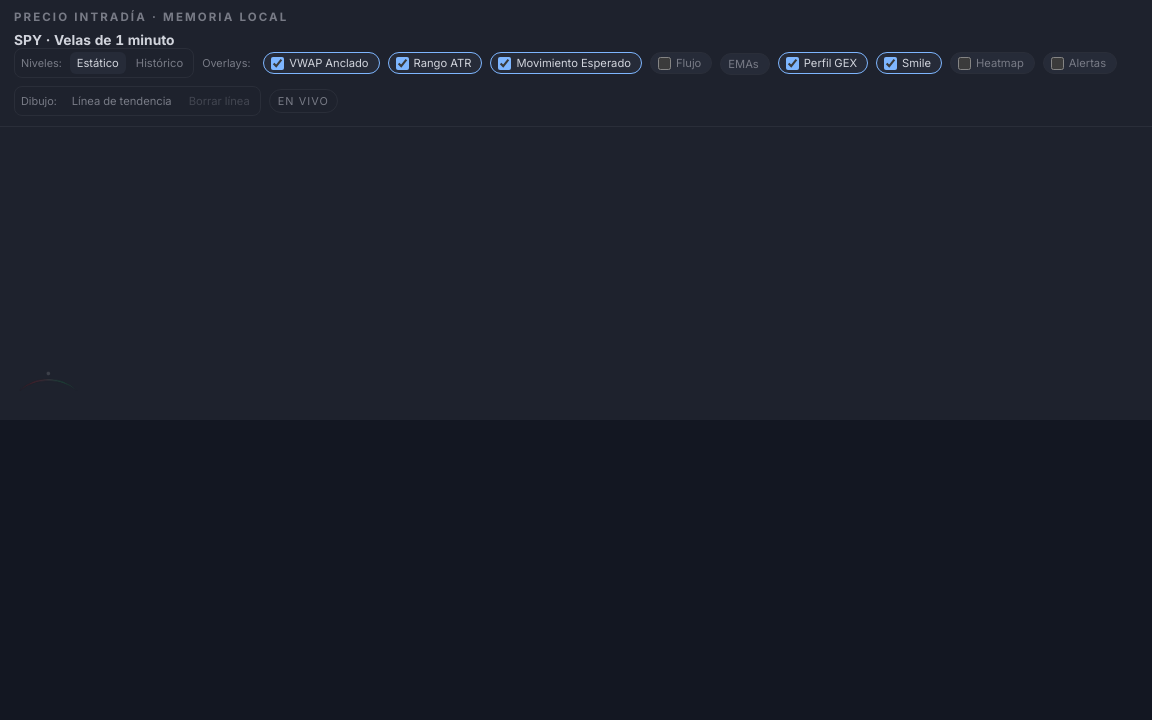
Test: PriceChart › EMAs: an invalid or repeated period is refused with a message and the previous sessions warm the line up
The width and height of the screenshot is (1152, 720).
Click the button "EMAs" at (745, 64), box x1=720 y1=52 x2=770 y2=74
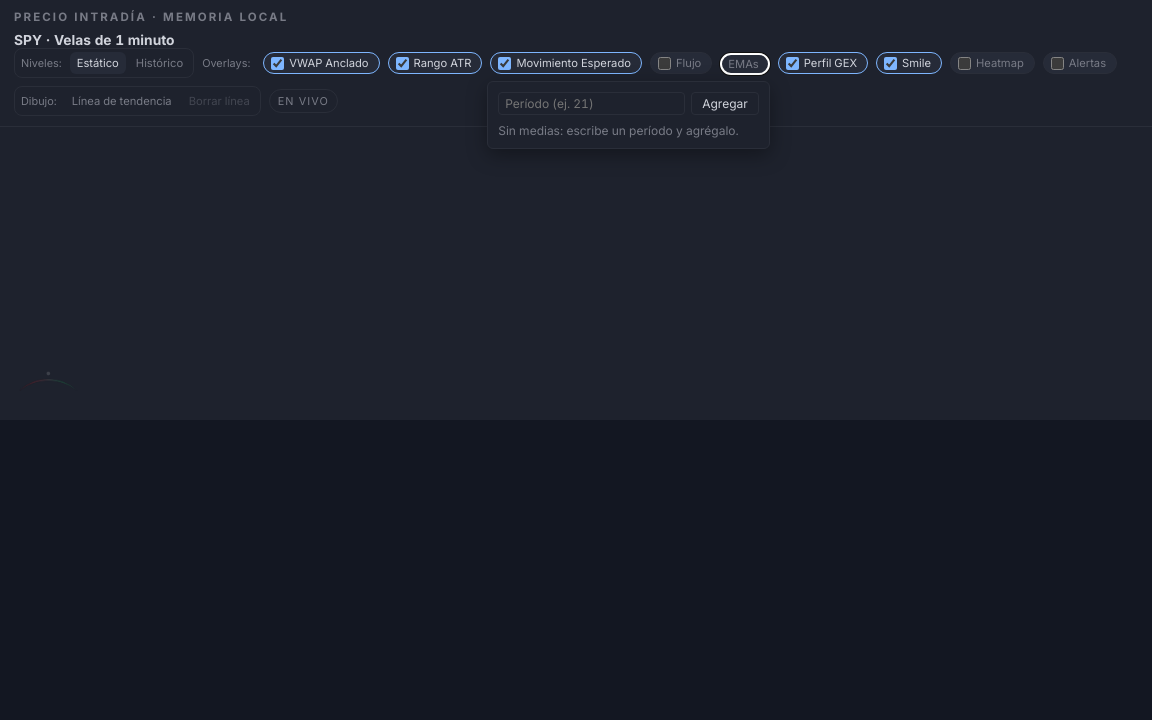
Type "0" into the field named "Período de la nueva EMA" at (592, 103), box x1=498 y1=92 x2=685 y2=114
Click the button "Agregar" at (725, 103), box x1=691 y1=92 x2=759 y2=114
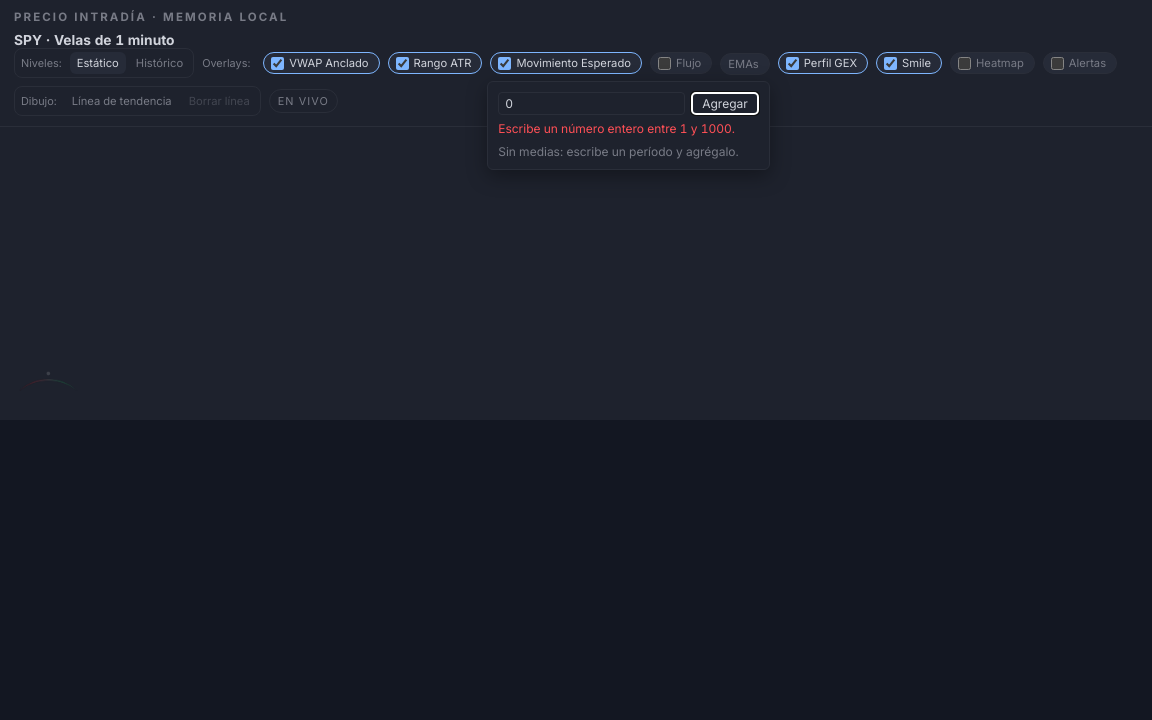
Expected: the message reads "Escribe un número entero entre 1 y 1000.", x1=498 y1=120 x2=735 y2=136
Replace the text in the field named "Período de la nueva EMA" with "2" at (592, 103), box x1=498 y1=92 x2=685 y2=114
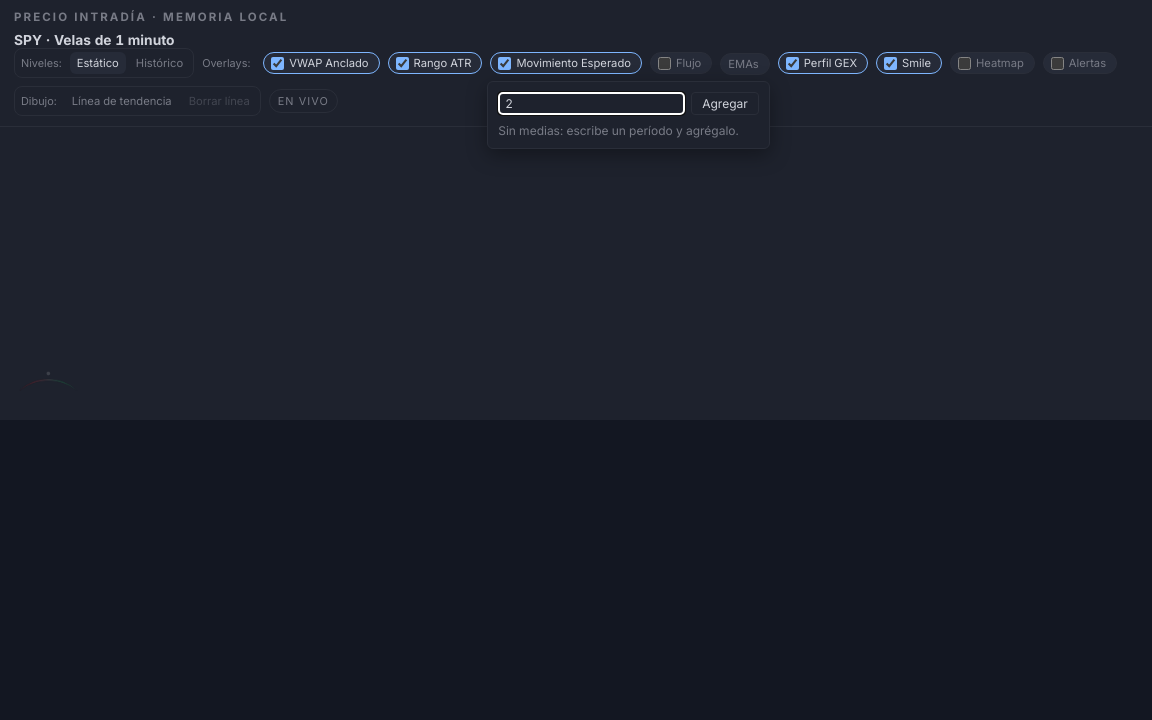
Click the button "Agregar" at (725, 103), box x1=691 y1=92 x2=759 y2=114
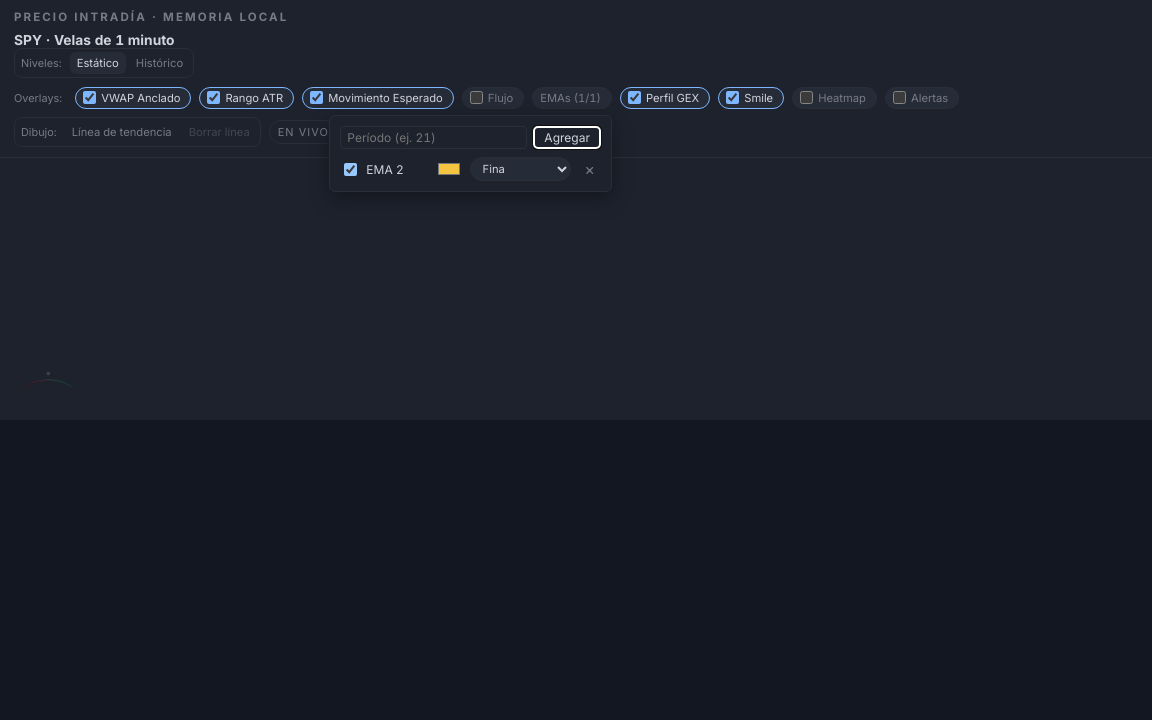
Type "2" into the field named "Período de la nueva EMA" at (434, 138), box x1=340 y1=126 x2=527 y2=149
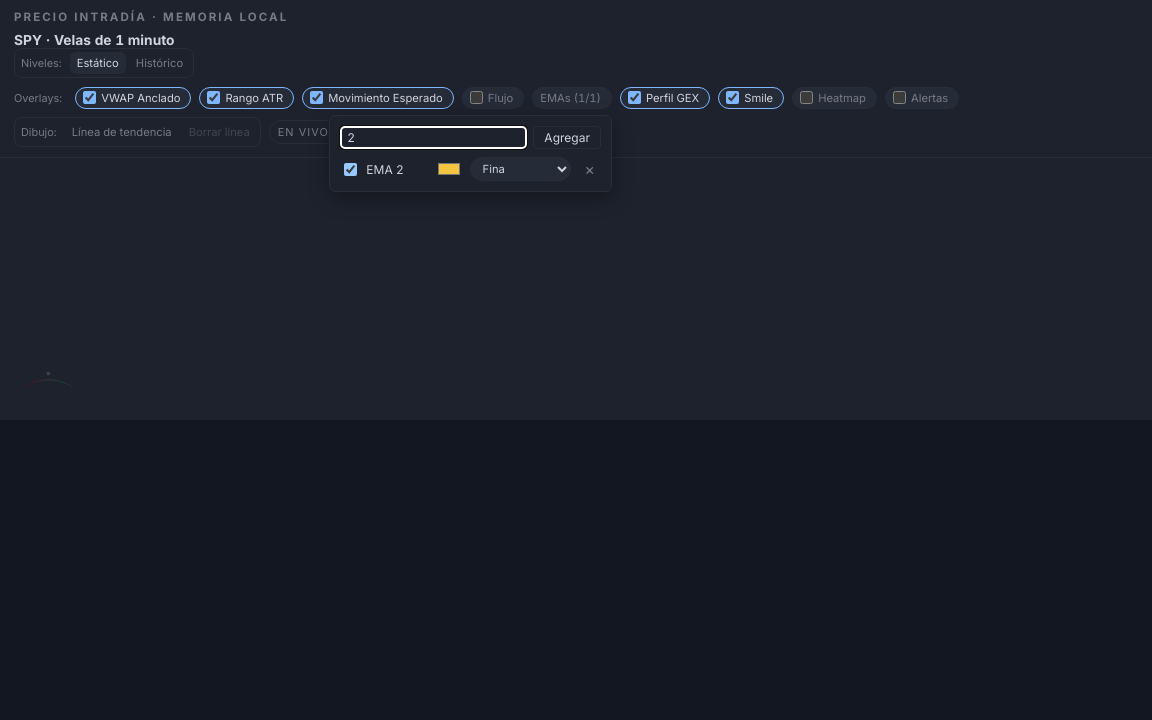
Click the button "Agregar" at (567, 138), box x1=533 y1=126 x2=601 y2=149
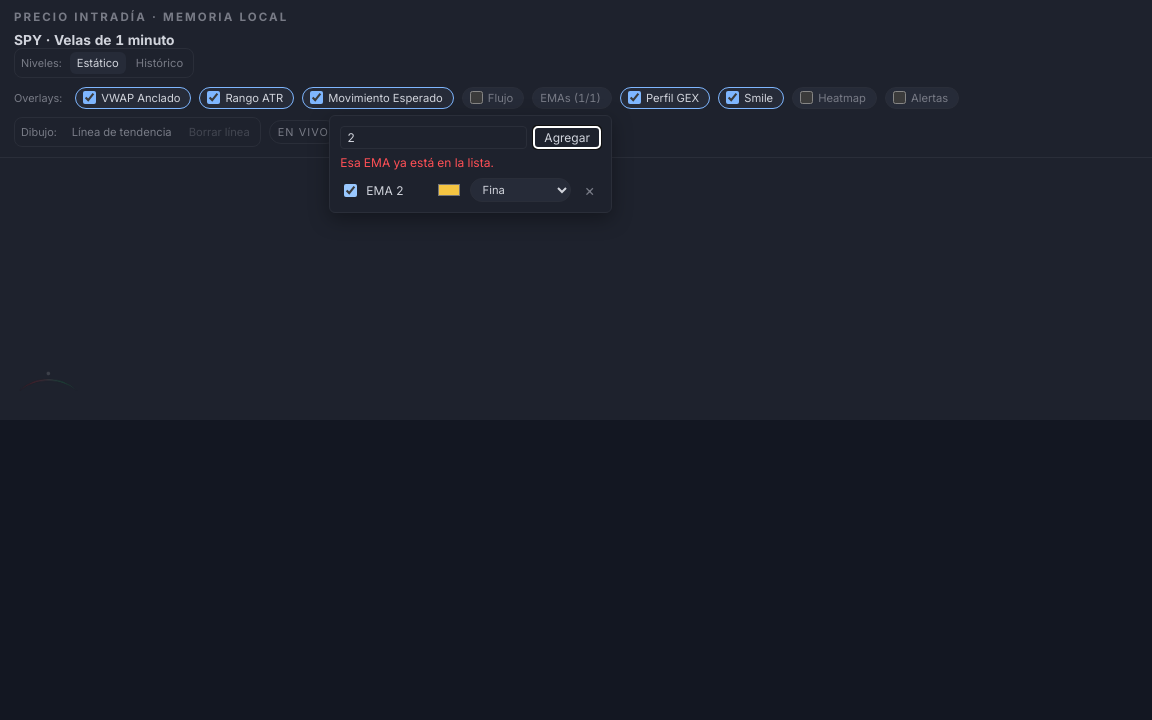
Expected: the message reads "Esa EMA ya está en la lista.", x1=340 y1=155 x2=494 y2=170
